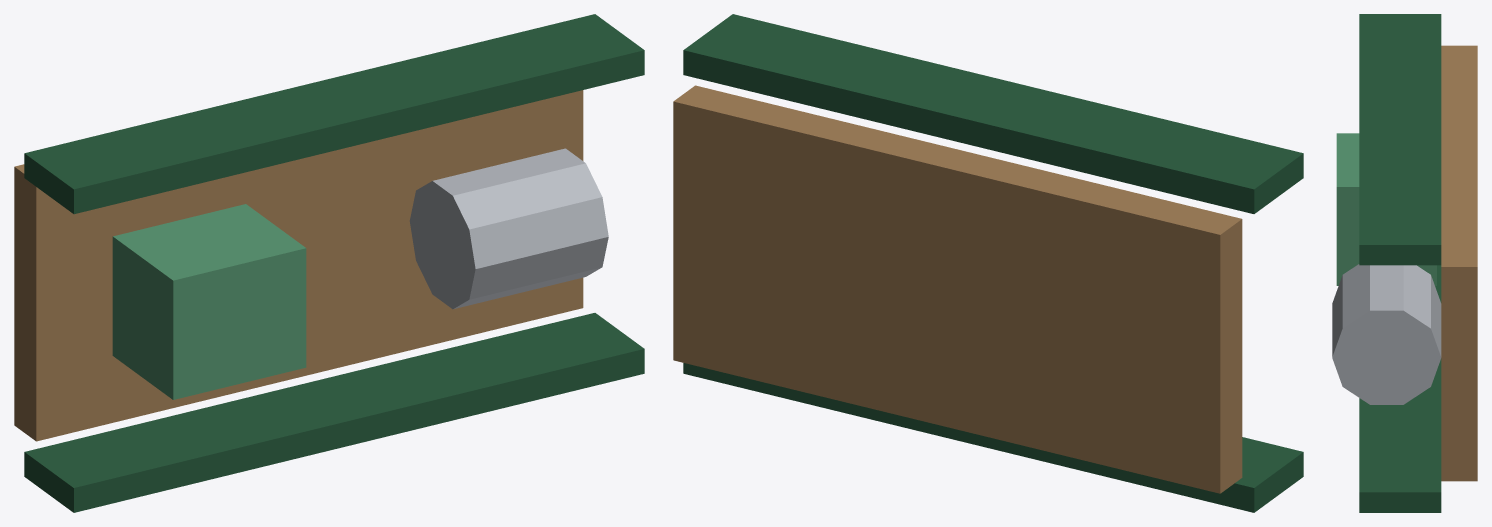
File: 08_skyship_deck.glb
3 views of the same model, side by side, from view 1: azimuth 30°, elevation 25°; view 2: azimuth 150°, elevation 25°; view 3: azimuth 270°, elevation 25° (orthographic). The views are drawn at different scales.
Parts seen in each view (by area): view 1: deck_insert, rail_right, rail_left, cargo_crate, winch; view 2: deck_insert, rail_right, rail_left; view 3: rail_right, deck_insert, winch, rail_left, cargo_crate.
Part boxes in pixels (left/top/right/bottom): deck_insert: left=14, top=90, right=583, bottom=441; rail_right: left=24, top=14, right=644, bottom=214; rail_left: left=24, top=313, right=644, bottom=512; cargo_crate: left=112, top=204, right=306, bottom=399; winch: left=409, top=148, right=608, bottom=309; deck_insert: left=673, top=85, right=1242, bottom=493; rail_right: left=683, top=14, right=1303, bottom=213; rail_left: left=683, top=363, right=1303, bottom=512; rail_right: left=1359, top=14, right=1441, bottom=265; deck_insert: left=1441, top=45, right=1477, bottom=481; winch: left=1332, top=264, right=1441, bottom=404; rail_left: left=1359, top=265, right=1441, bottom=512; cargo_crate: left=1336, top=133, right=1436, bottom=285.
Size of the model in its own units: 1.56 by 0.845 by 0.416.
